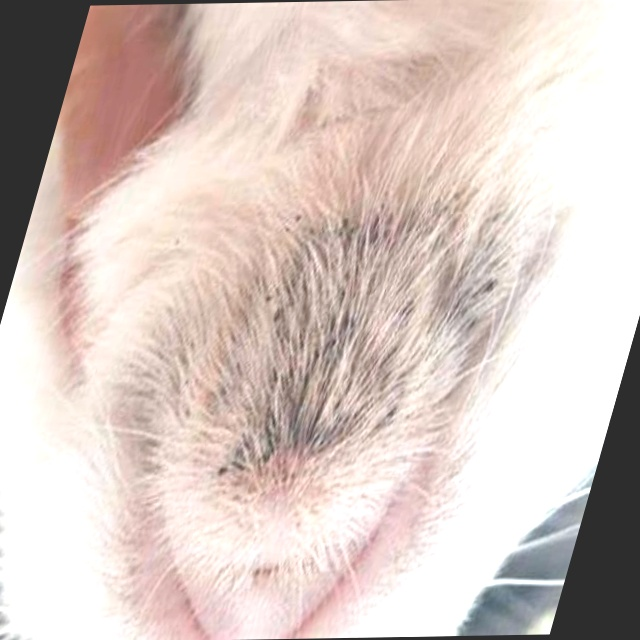acne: (165, 200, 519, 488)
